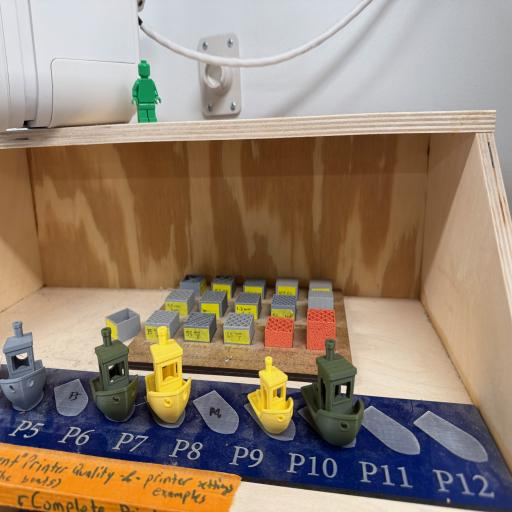Lego-Dude: (132, 60, 161, 123)
